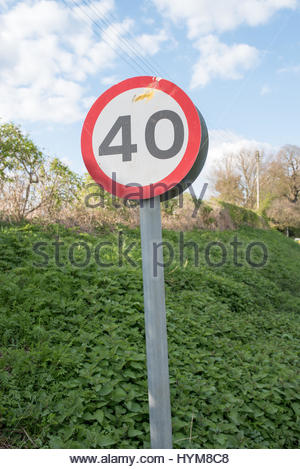Speed_limit_40km: (78, 76, 206, 202)
